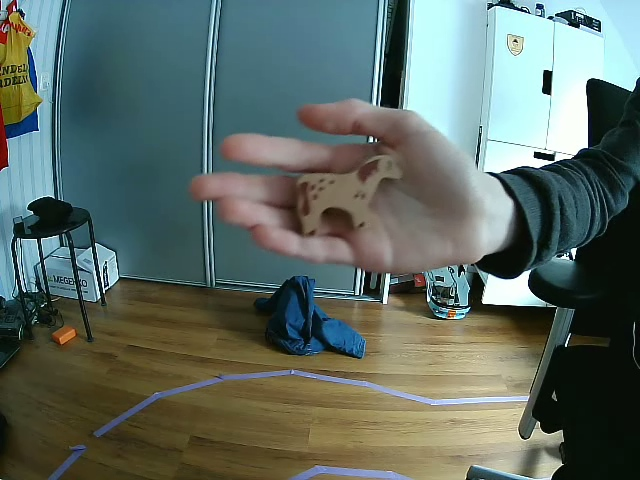paard: (300, 156, 403, 234)
